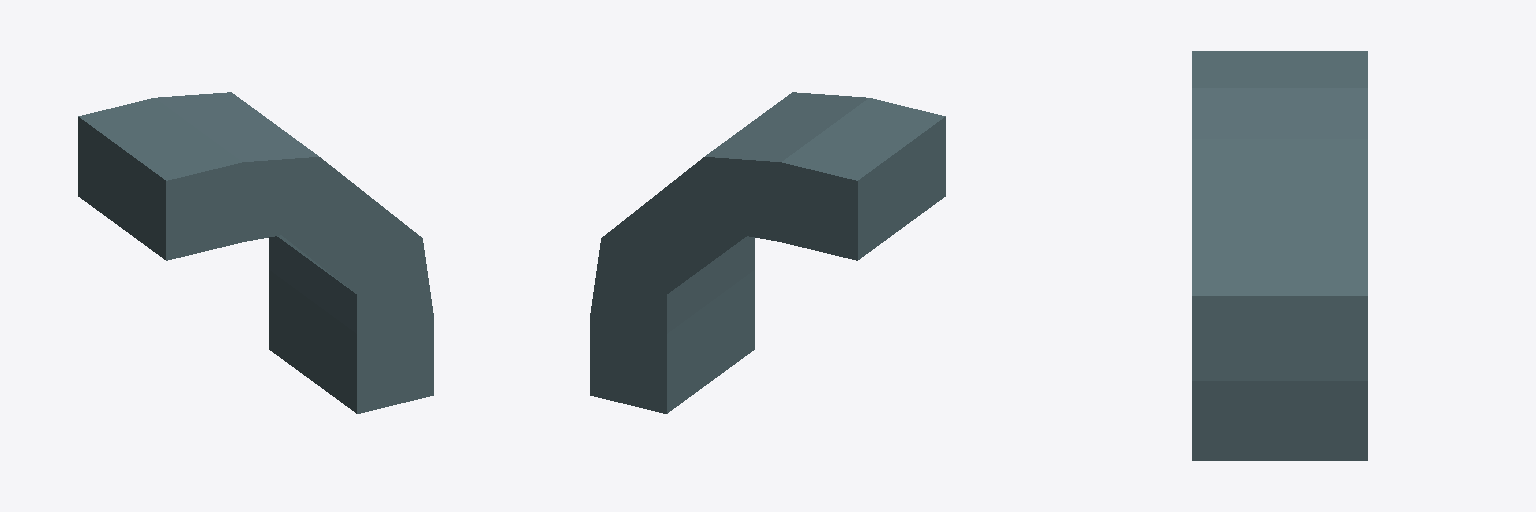
The model's file is buttress_type4.obj.
3 views of the same model, side by side, from view 1: azimuth 30°, elevation 25°; view 2: azimuth 150°, elevation 25°; view 3: azimuth 270°, elevation 25° (orthographic).
Parts seen in each view (by area): view 1: buttress_type4; view 2: buttress_type4; view 3: buttress_type4.
Boxes of the visible parts, <box> form: buttress_type4: <box>78,92,433,413</box>; buttress_type4: <box>590,92,945,413</box>; buttress_type4: <box>1192,51,1367,460</box>.
Bounding box in the file's own units: 1.75 × 1.75 × 1.